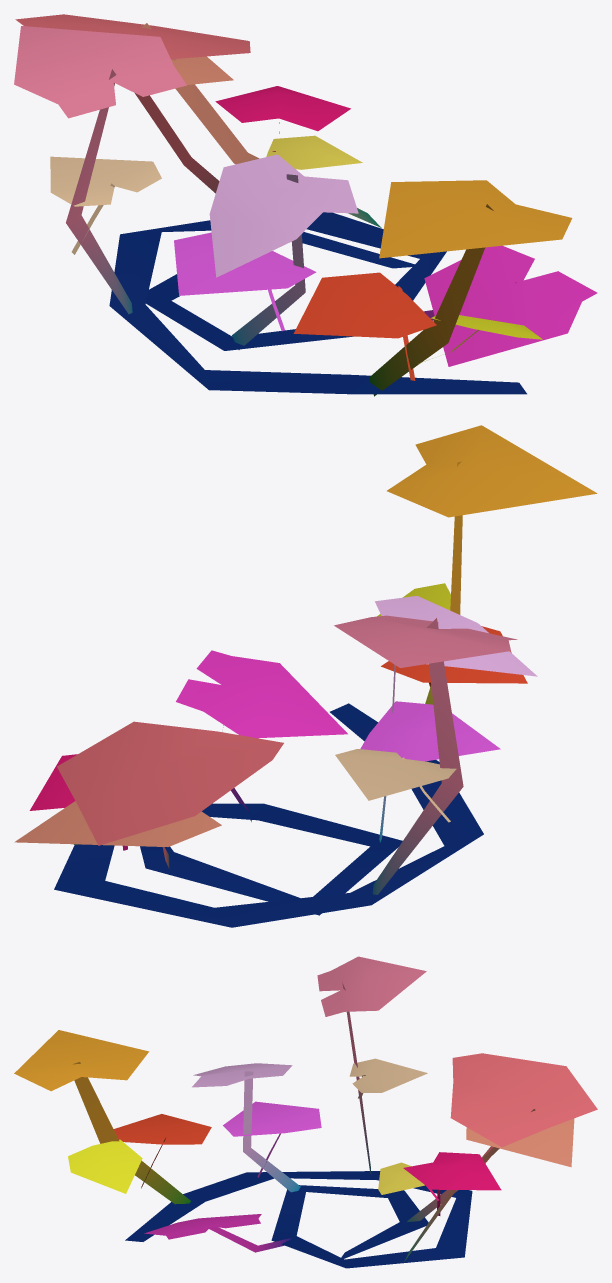
Rendered from English_Ivy_xfcnebhqx_Mid_xfcnebhqx_VarH_LOD1.fbx.
The picture shows the model from 3 angles, top to bottom: view 1: azimuth 30°, elevation 25°; view 2: azimuth 150°, elevation 25°; view 3: azimuth 270°, elevation 25°; orthographic projection. The views are drawn at different scales.
Visible parts, largest first — view 1: _pq1z_VarH_LOD3; view 2: _pq1z_VarH_LOD3; view 3: _pq1z_VarH_LOD3.
Boxes of the visible parts, x1,y1,x2,y2 form: _pq1z_VarH_LOD3: (14, 14, 597, 396); _pq1z_VarH_LOD3: (14, 425, 597, 927); _pq1z_VarH_LOD3: (14, 956, 597, 1268).
Bounding box in the file's own units: 19.59 × 12.29 × 33.85.
